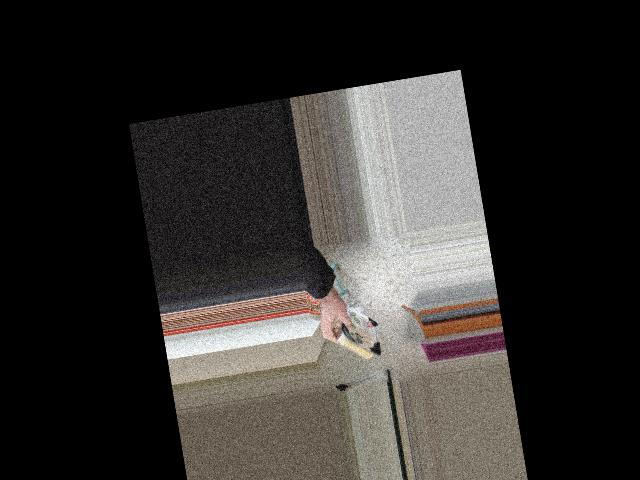cheese: (314, 303, 401, 380)
